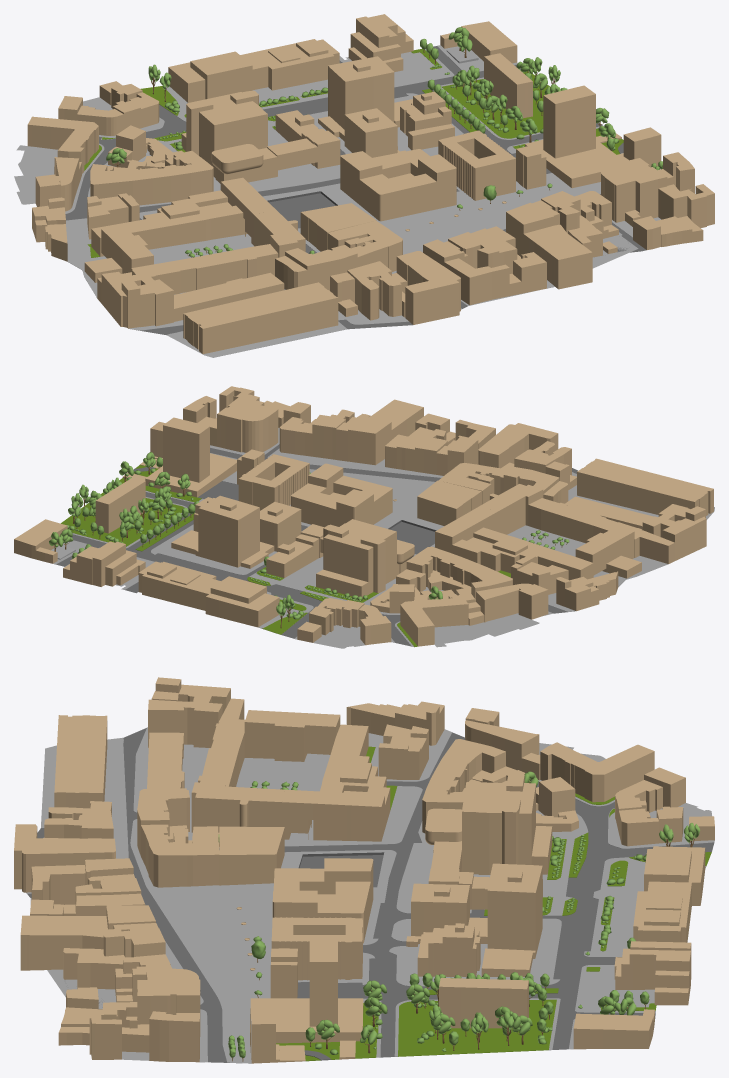
The model's file is RUR_Usti - základ.obj.
The picture shows the model from 3 angles, top to bottom: view 1: azimuth 30°, elevation 25°; view 2: azimuth 150°, elevation 25°; view 3: azimuth 270°, elevation 25°; orthographic projection. The views are drawn at different scales.
Visible parts, largest first — view 1: Mesh594 Model; view 2: Mesh594 Model; view 3: Mesh594 Model.
Part boxes in pixels (box(x1,y1,x2,y2)): Mesh594 Model: box(14, 14, 714, 357); Mesh594 Model: box(14, 386, 714, 648); Mesh594 Model: box(14, 677, 714, 1063).
Size of the model in its own units: 416 by 49.38 by 369.
